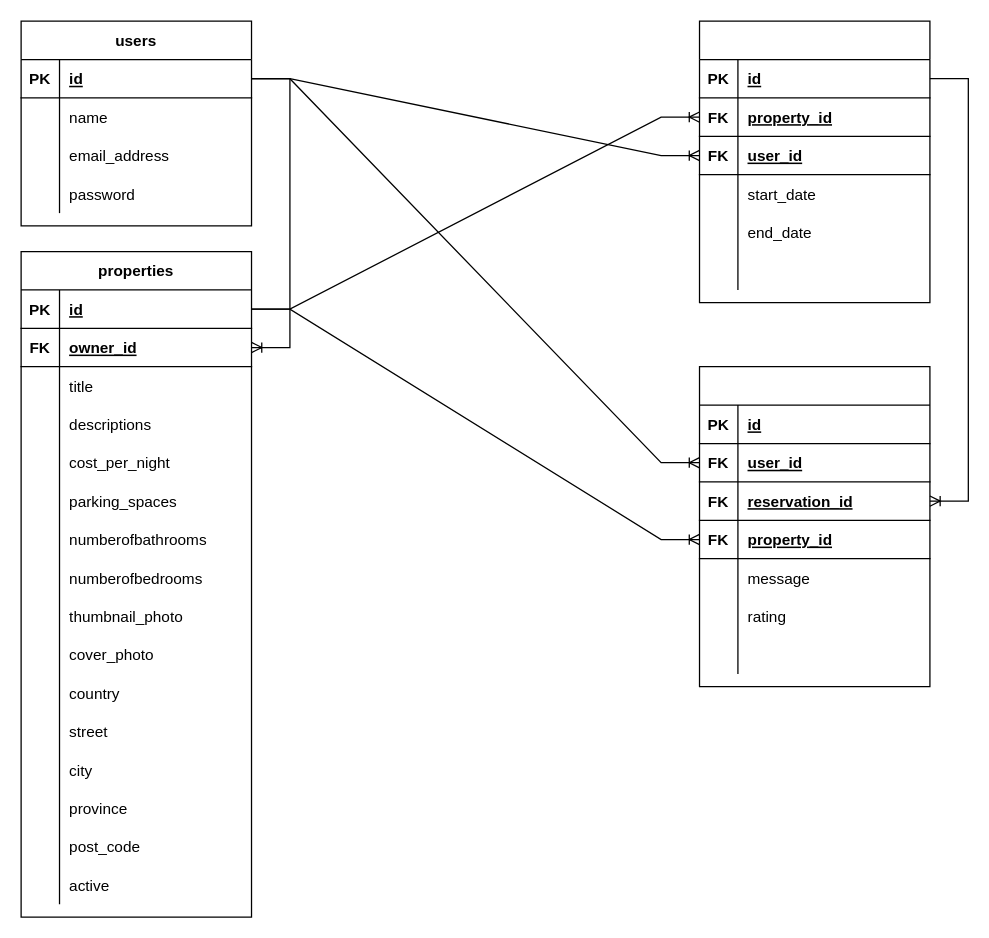
Image size: 989x938. Some labels were removed from this diagram. Here are the shapes that lost their labels. From the top down, the box of each, then its label:
(698, 20, 930, 303): reservations
(698, 365, 930, 687): property_reviews
